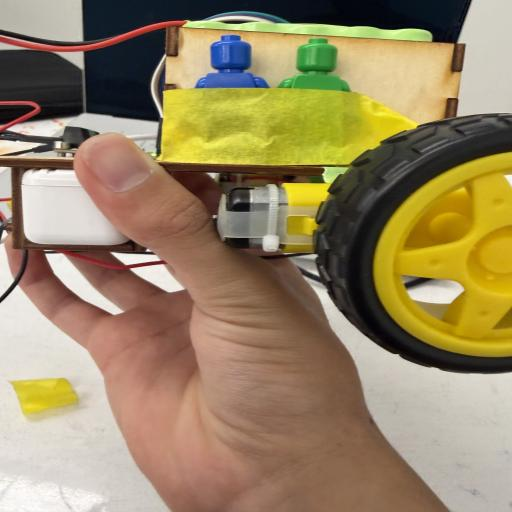Blue-Lego: (195, 34, 269, 89)
Green-Lego: (278, 38, 350, 92)
